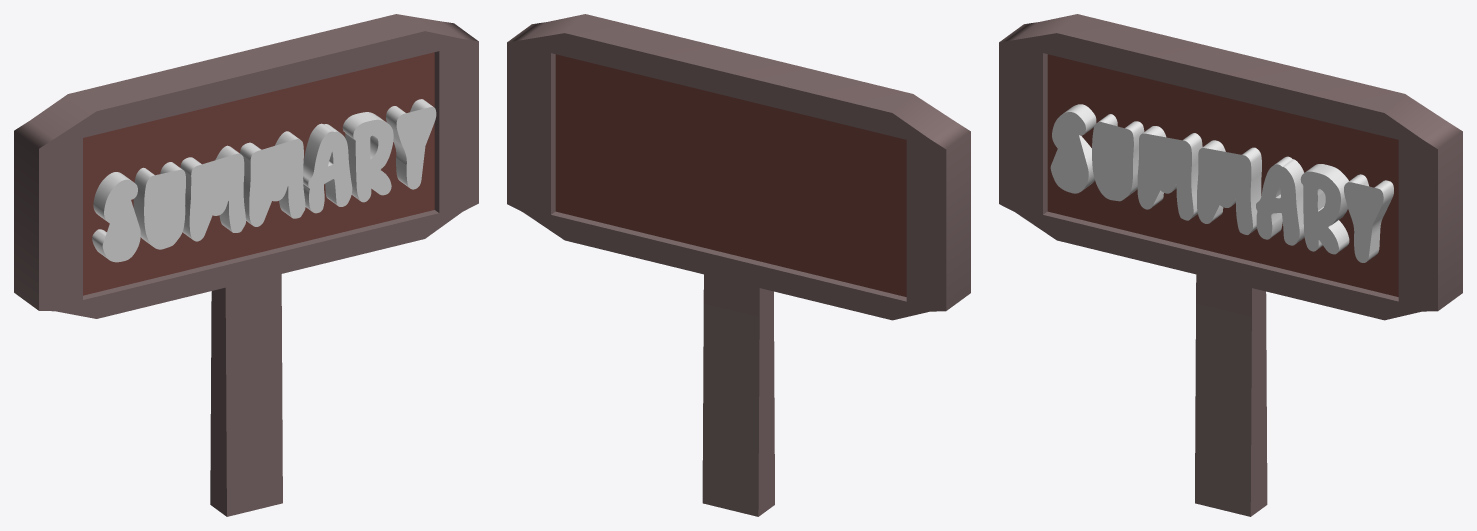
File: sign_summary.fbx
3 views of the same model, side by side, from view 1: azimuth 30°, elevation 25°; view 2: azimuth 150°, elevation 25°; view 3: azimuth 330°, elevation 25° (orthographic).
Parts seen in each view (by area): view 1: start2; view 2: start2; view 3: start2.
Boxes of the visible parts, x1,y1,x2,y2 form: start2: (14, 14, 478, 516); start2: (507, 14, 970, 516); start2: (999, 14, 1462, 516).
Bounding box in the file's own units: 5.72 × 5.49 × 0.6949.
